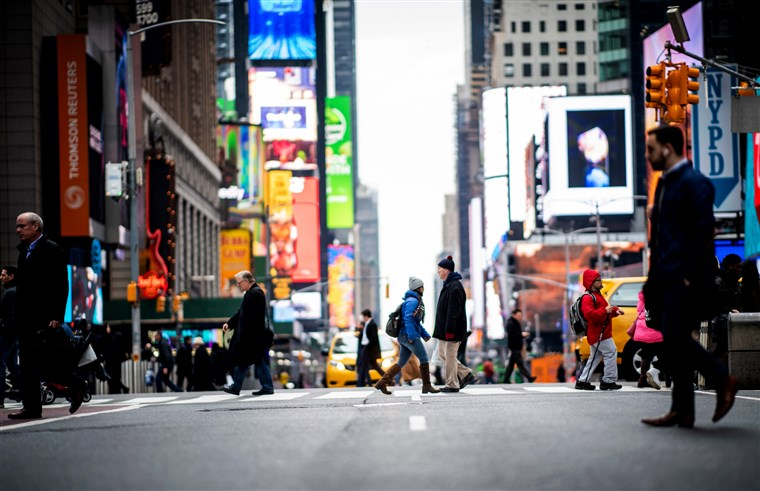person: (621, 119, 743, 442), (13, 207, 91, 416), (420, 249, 484, 400), (373, 270, 446, 400), (561, 266, 630, 394), (214, 269, 280, 395), (494, 304, 546, 387), (350, 310, 383, 387)
